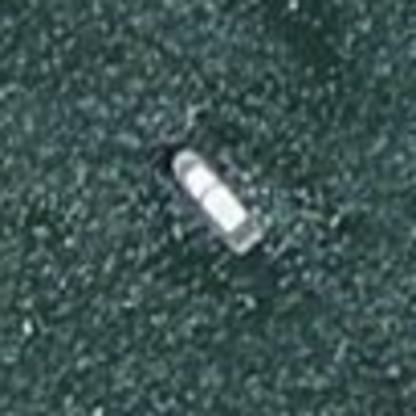ship: (156, 136, 279, 266)
